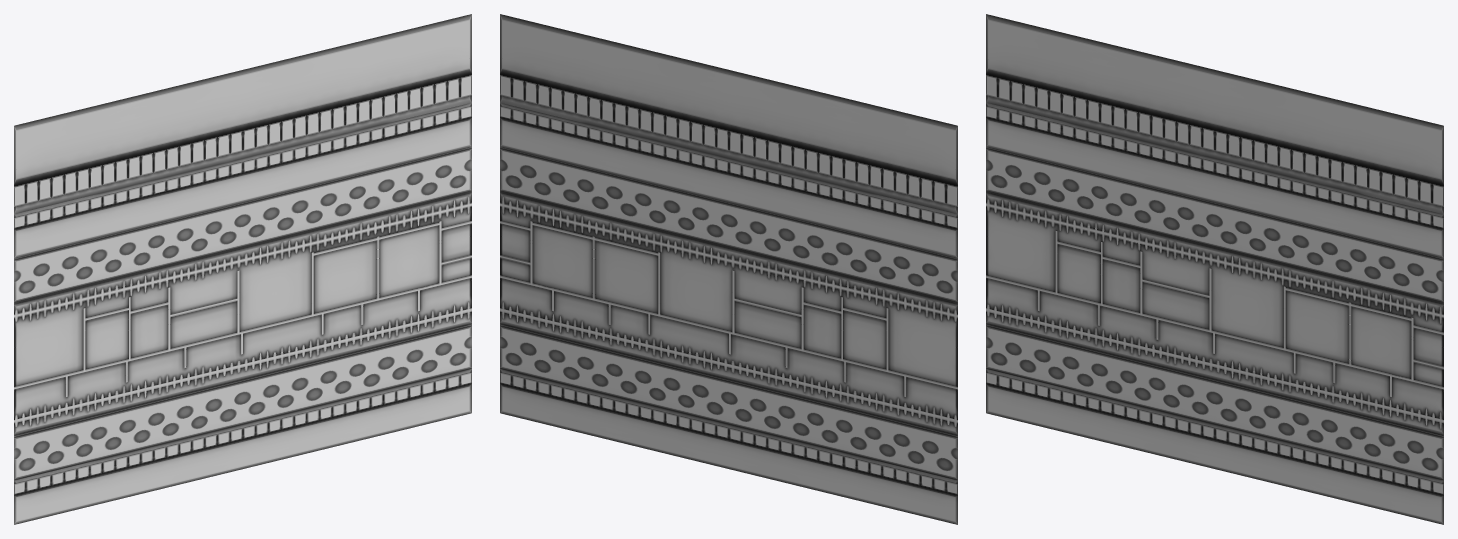
File: wallV3.fbx
The picture shows the model from 3 angles, left to right: view 1: azimuth 30°, elevation 25°; view 2: azimuth 150°, elevation 25°; view 3: azimuth 330°, elevation 25°; orthographic projection.
Visible parts, largest first — view 1: WallV3; view 2: WallV3; view 3: WallV3.
Boxes of the visible parts, x1=… form: WallV3: x1=14, y1=14, x2=471, y2=524; WallV3: x1=500, y1=14, x2=957, y2=524; WallV3: x1=986, y1=14, x2=1443, y2=524.
Bounding box in the file's own units: 600 × 500 × 0.
1 material, 1 textured.
